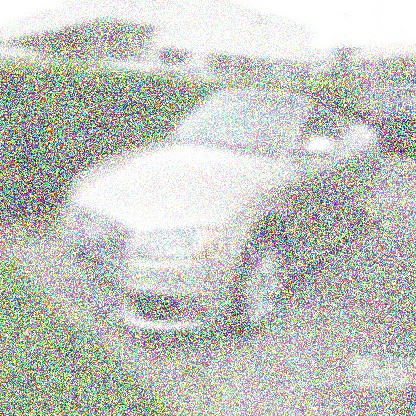Vehicle: (62, 88, 382, 336)
